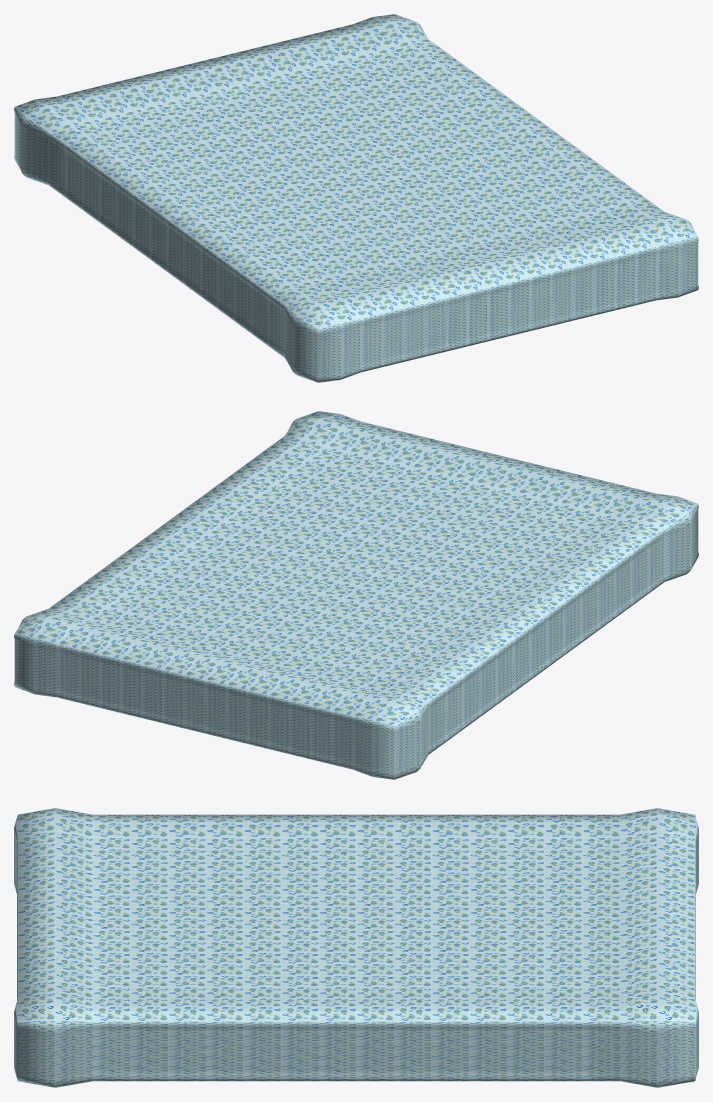
File: colchon.obj
3 views of the same model, one above another, from view 1: azimuth 30°, elevation 25°; view 2: azimuth 150°, elevation 25°; view 3: azimuth 270°, elevation 25° (orthographic). The views are drawn at different scales.
Visible parts, largest first — view 1: Cube.004_Cube.009; view 2: Cube.004_Cube.009; view 3: Cube.004_Cube.009.
Boxes of the visible parts, box(x1,y1,x2,y2) form: Cube.004_Cube.009: box(14, 14, 698, 382); Cube.004_Cube.009: box(14, 411, 698, 779); Cube.004_Cube.009: box(14, 808, 698, 1087).
Bounding box in the file's own units: 6.25 × 1.04 × 8.34.
1 material, 1 textured.
